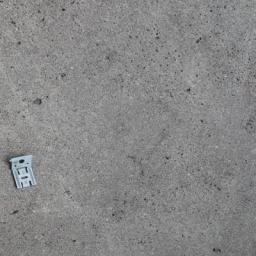FOD: (8, 152, 40, 193)
